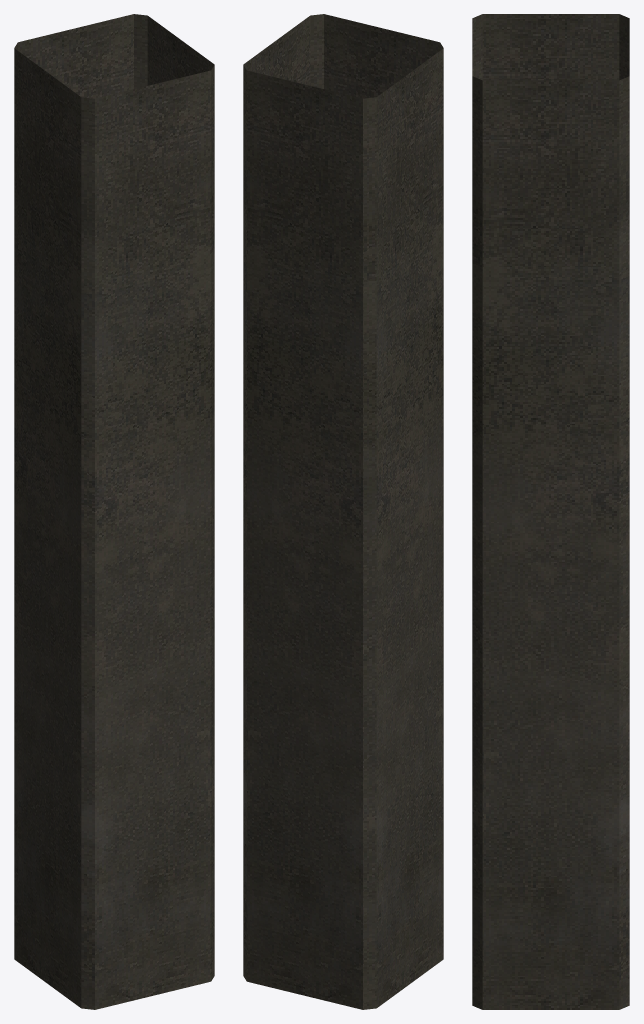
File: pillar_1_plain.glb
3 renders of one model, left to right at view 1: azimuth 30°, elevation 25°; view 2: azimuth 150°, elevation 25°; view 3: azimuth 270°, elevation 25°, orthographic. The views are drawn at different scales.
Parts seen in each view (by area): view 1: pillar_1_plain; view 2: pillar_1_plain; view 3: pillar_1_plain.
Part boxes in pixels (left/top/right/bottom): pillar_1_plain: left=14, top=14, right=214, bottom=1009; pillar_1_plain: left=243, top=14, right=443, bottom=1009; pillar_1_plain: left=472, top=14, right=629, bottom=1009.
Bounding box in the file's own units: 0.46 × 3 × 0.46.
1 material, 1 textured.
